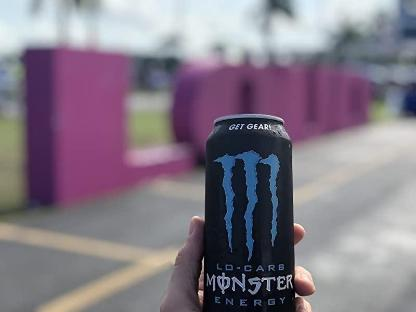Can: (202, 113, 298, 311)
